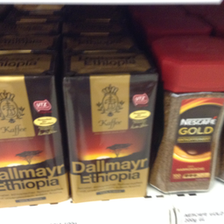coffee: (62, 51, 156, 200), (148, 35, 224, 194), (1, 53, 70, 207)
